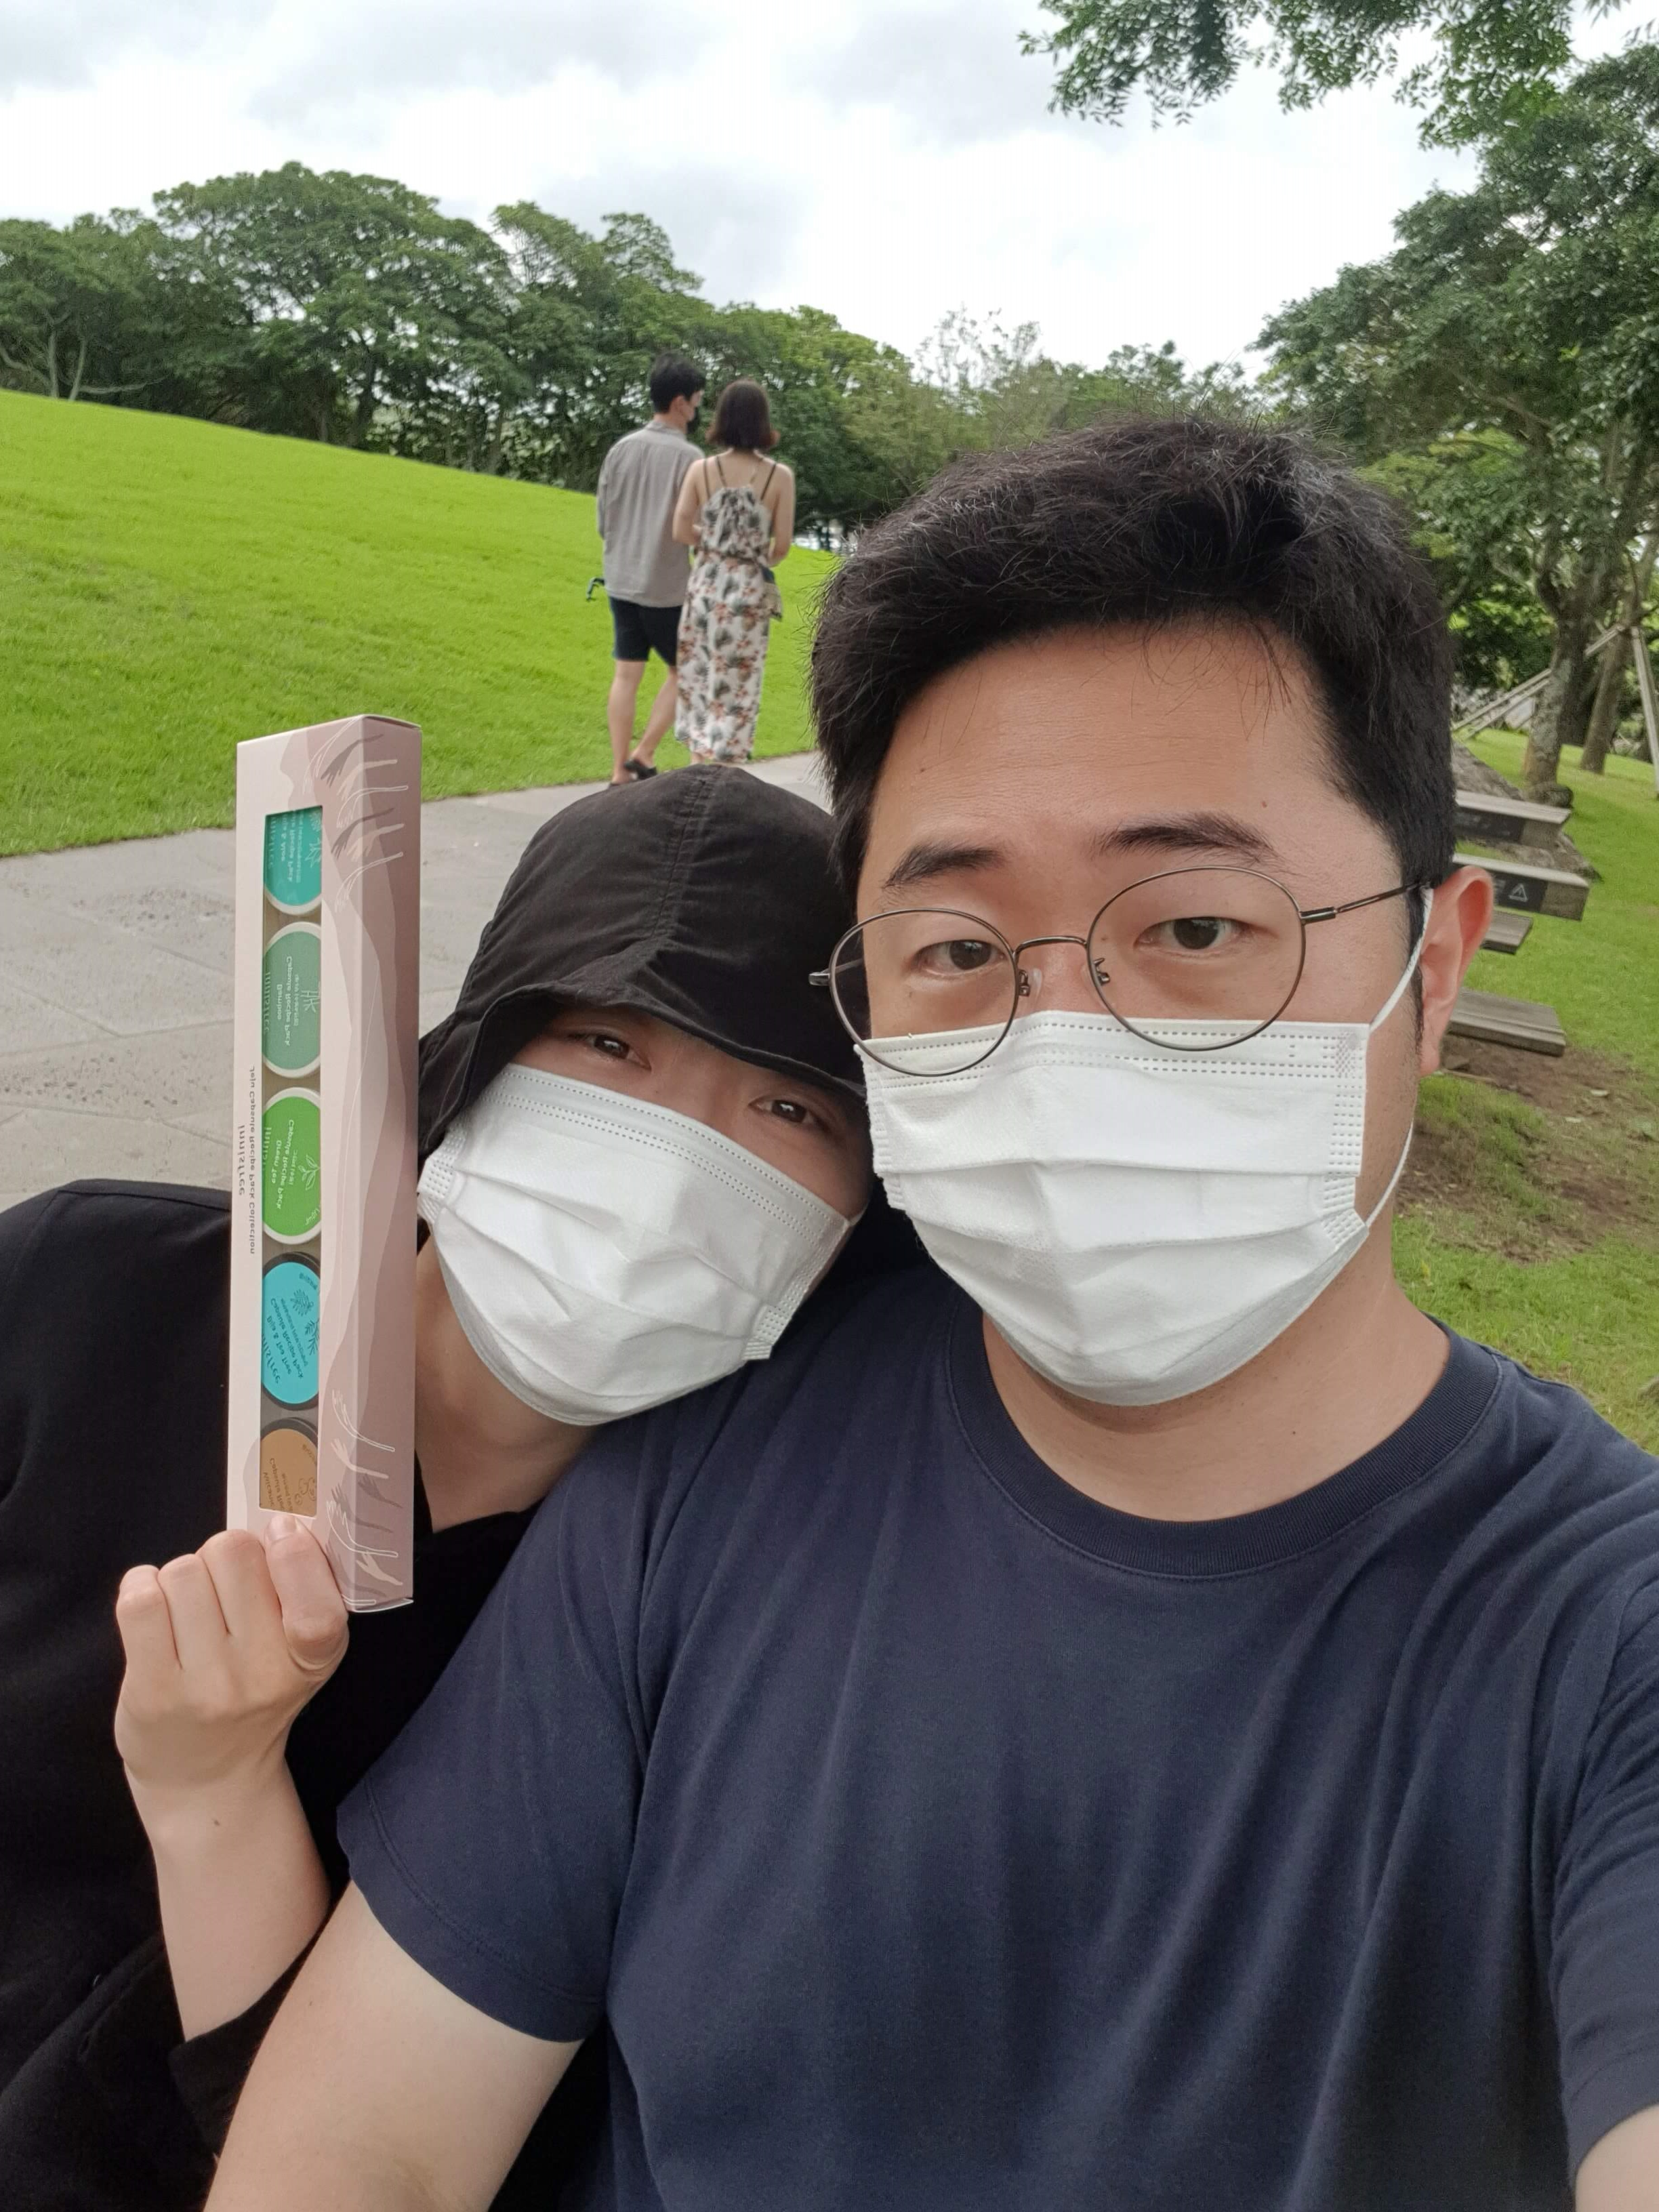mask: (849, 665, 1424, 1390), (443, 993, 854, 1467)
